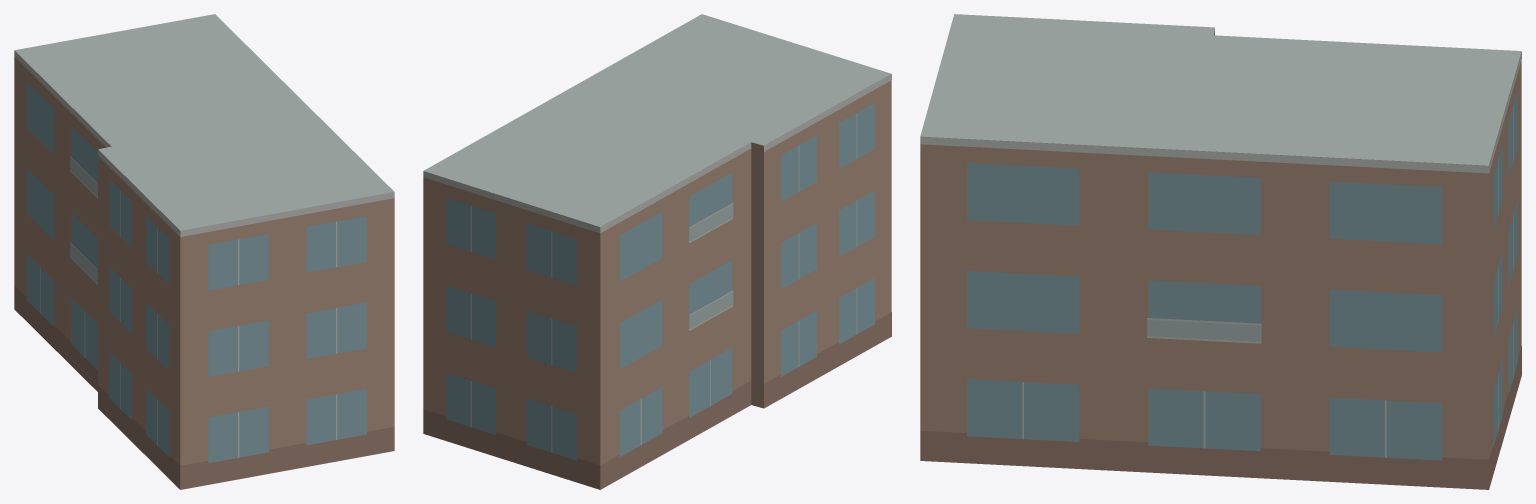
The model's file is survey-upis-32713544.glb.
The picture shows the model from 3 angles, left to right: view 1: azimuth 30°, elevation 25°; view 2: azimuth 150°, elevation 25°; view 3: azimuth 270°, elevation 25°; orthographic projection. The views are drawn at different scales.
Visible parts, largest first — view 1: survey-upis-32713544.tmp; view 2: survey-upis-32713544.tmp; view 3: survey-upis-32713544.tmp.
Part boxes in pixels (<box>): survey-upis-32713544.tmp: <box>14,14,394,489</box>; survey-upis-32713544.tmp: <box>423,14,891,489</box>; survey-upis-32713544.tmp: <box>920,14,1521,489</box>.
Size of the model in its own units: 10.24 by 10.2 by 17.16.
